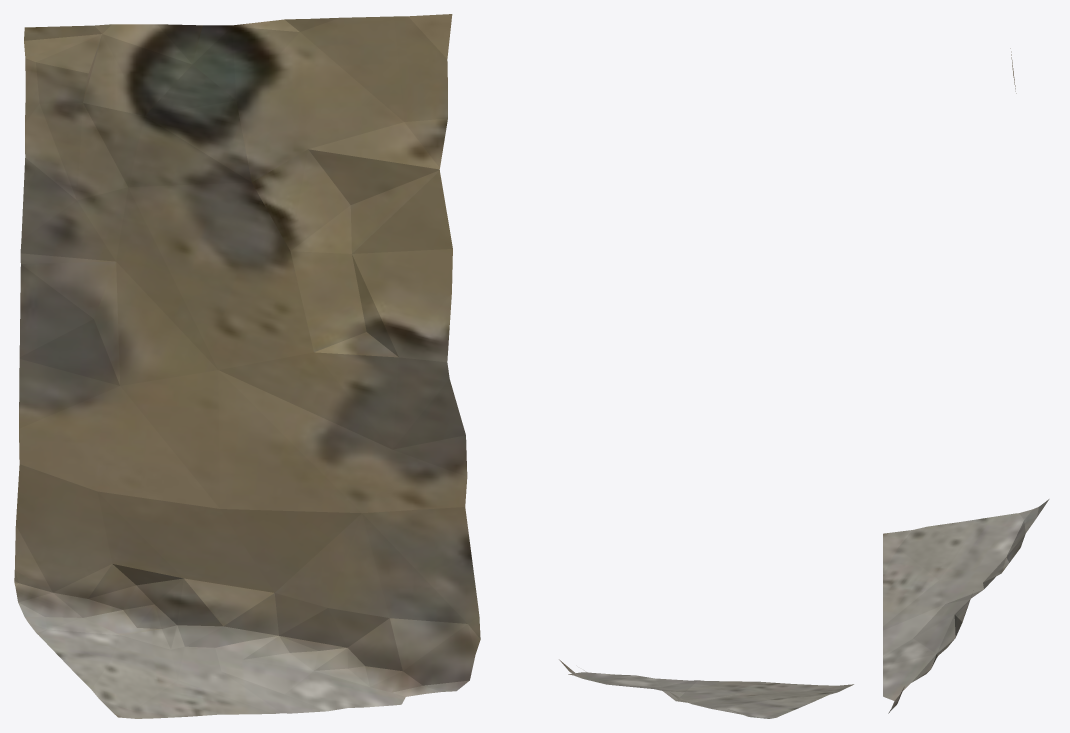
3 renders of one model, left to right at view 1: azimuth 30°, elevation 25°; view 2: azimuth 150°, elevation 25°; view 3: azimuth 270°, elevation 25°, orthographic. The views are drawn at different scales.
Size of the model in its own units: 0.4687 by 0.8374 by 0.2315.
Materials: 2 (2 with a texture image).
